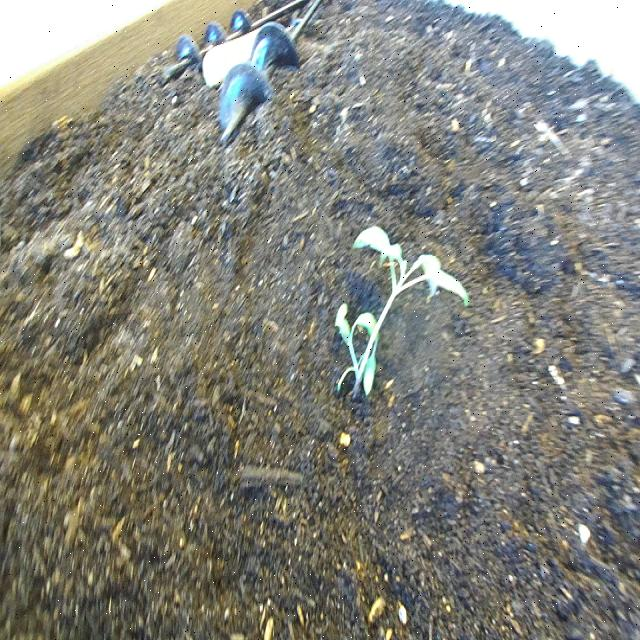Healthy: (330, 212, 472, 414)
